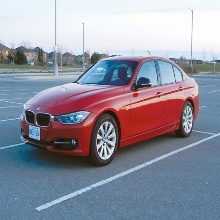no damage: (21, 55, 199, 164)
